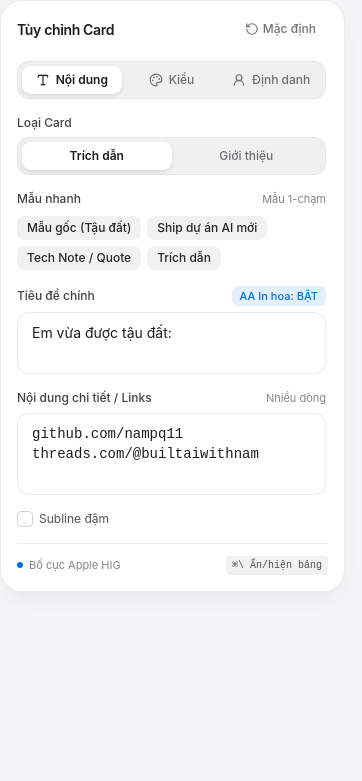
Headline size numeric input › follows external size changes (Style Preset applies 54)
Click the radio button labelled "Kiểu": x=171, y=80 left=149, top=72, right=194, bottom=87
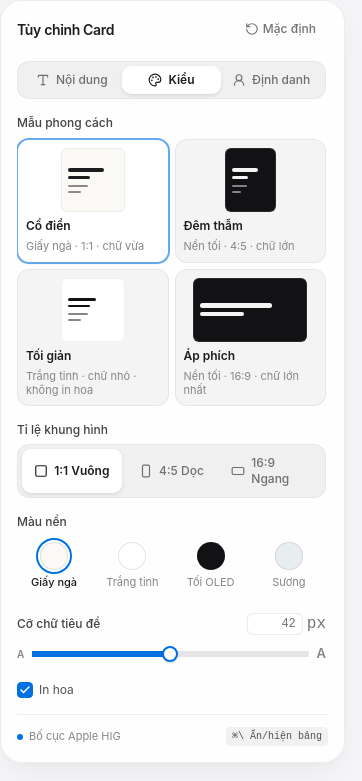
Click the button "Áp phích Nền tối · 16:9 · chữ lớn nhất": x=250, y=338 left=174, top=269, right=326, bottom=406
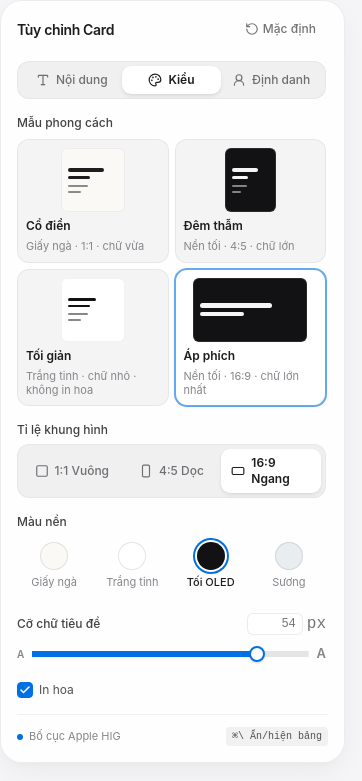
Check: the number field labelled "Cỡ chữ tiêu đề" holds "54", box left=247, top=613, right=303, bottom=635
